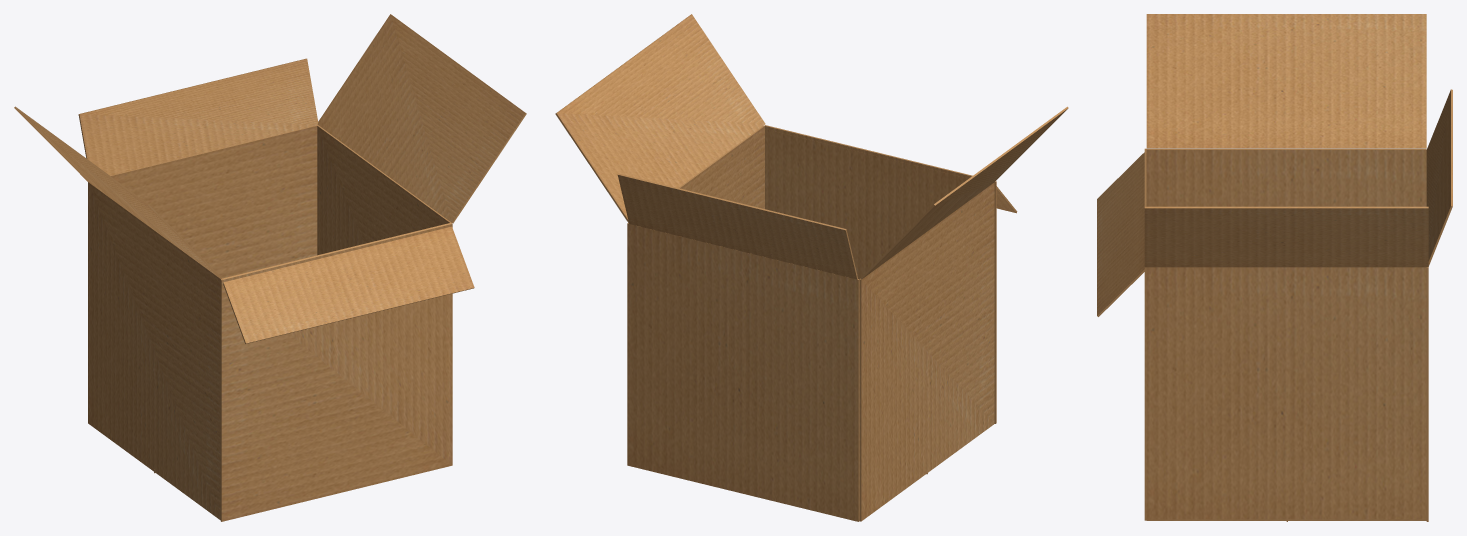
The model's file is CartoonBox.fbx.
3 views of the same model, side by side, from view 1: azimuth 30°, elevation 25°; view 2: azimuth 150°, elevation 25°; view 3: azimuth 270°, elevation 25° (orthographic). The views are drawn at different scales.
Visible parts, largest first — view 1: Object_2, Object_2_001, Object_2_002, Object_2_004, Object_2_003; view 2: Object_2, Object_2_001, Object_2_002, Object_2_003; view 3: Object_2, Object_2_003, Object_2_001, Object_2_004, Object_2_002.
Boxes of the visible parts, <box> form: Object_2: <box>88,125,452,521</box>; Object_2_001: <box>317,14,526,223</box>; Object_2_002: <box>78,58,318,175</box>; Object_2_004: <box>223,226,474,343</box>; Object_2_003: <box>14,106,221,278</box>; Object_2: <box>627,125,996,521</box>; Object_2_001: <box>555,14,765,223</box>; Object_2_002: <box>617,173,857,279</box>; Object_2_003: <box>860,106,1068,279</box>; Object_2: <box>1144,148,1428,521</box>; Object_2_003: <box>1146,14,1426,148</box>; Object_2_001: <box>1144,206,1428,267</box>; Object_2_004: <box>1097,152,1146,316</box>; Object_2_002: <box>1426,89,1452,266</box>.
Bounding box in the file's own units: 336 × 260 × 284.
